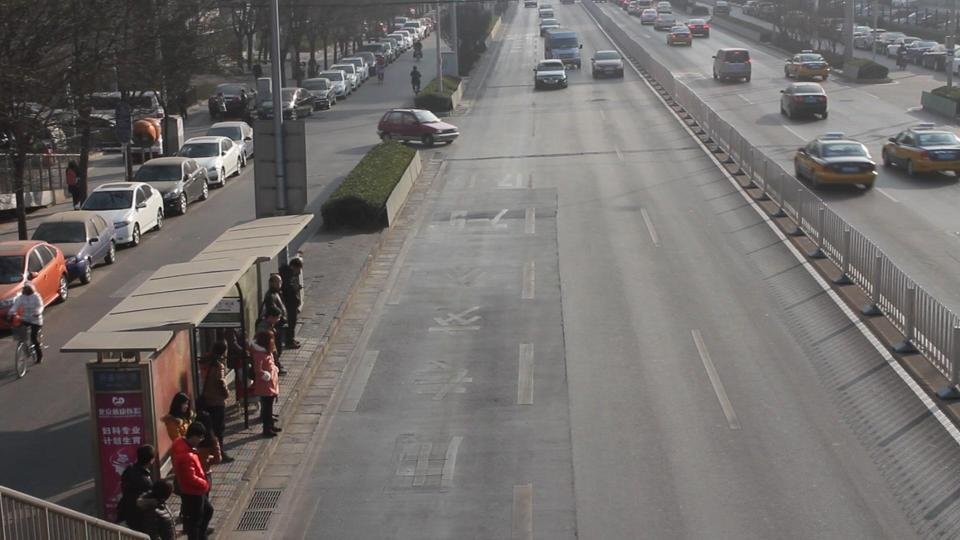car: (29, 211, 119, 286), (0, 239, 70, 324), (78, 181, 166, 248), (793, 133, 879, 191), (130, 156, 210, 217), (881, 128, 960, 176), (376, 108, 461, 149), (176, 136, 242, 187), (206, 121, 255, 167), (257, 86, 316, 121), (778, 82, 829, 121), (784, 53, 831, 81), (299, 77, 338, 109), (317, 68, 356, 97), (534, 59, 570, 89), (592, 49, 624, 79), (334, 58, 371, 83), (665, 26, 694, 47), (687, 18, 711, 37), (640, 9, 665, 26), (653, 14, 676, 31), (540, 19, 561, 29), (539, 6, 555, 18), (523, 0, 538, 8)
person: (159, 425, 214, 540), (116, 446, 171, 540), (197, 344, 233, 472), (248, 331, 283, 439), (259, 275, 291, 363), (6, 286, 45, 353), (290, 253, 313, 344), (174, 389, 197, 477), (409, 66, 422, 92)
truck: (542, 28, 582, 69), (711, 48, 753, 83)
